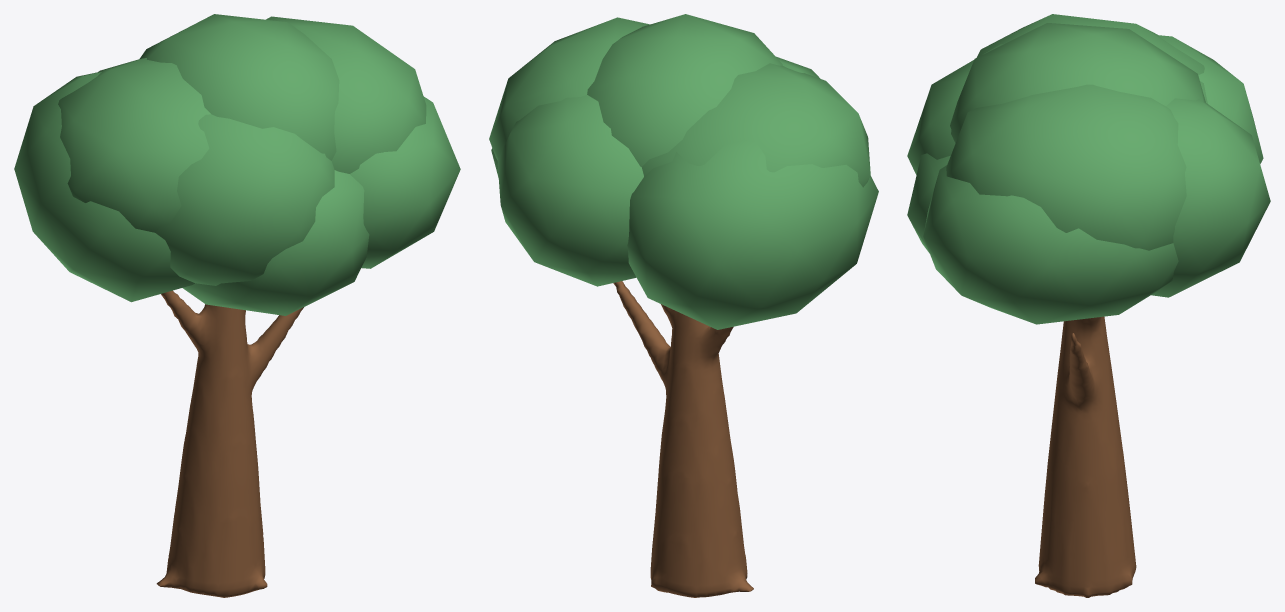
Rendered from NaturalTree_10_Asymmetric.fbx.
3 renders of one model, left to right at view 1: azimuth 30°, elevation 25°; view 2: azimuth 150°, elevation 25°; view 3: azimuth 270°, elevation 25°, orthographic.
Parts seen in each view (by area): view 1: Trunk.009, Foliage_03.009, Foliage_01.009, Foliage_00.009, Foliage_05.009, Foliage_02.009, Foliage_07.008, Foliage_06.009; view 2: Foliage_05.009, Trunk.009, Foliage_04.009, Foliage_00.009, Foliage_01.009, Foliage_02.009; view 3: Foliage_02.009, Foliage_06.009, Trunk.009, Foliage_00.009, Foliage_04.009, Foliage_03.009, Foliage_05.009, Foliage_01.009, Foliage_07.008.
Boxes of the visible parts, x1=… form: Trunk.009: x1=156, y1=290, x2=303, y2=597; Foliage_03.009: x1=155, y1=114, x2=334, y2=285; Foliage_01.009: x1=58, y1=58, x2=210, y2=232; Foliage_00.009: x1=139, y1=14, x2=339, y2=160; Foliage_05.009: x1=14, y1=72, x2=194, y2=302; Foliage_02.009: x1=266, y1=16, x2=426, y2=173; Foliage_07.008: x1=182, y1=170, x2=369, y2=315; Foliage_06.009: x1=350, y1=96, x2=460, y2=268; Foliage_05.009: x1=627, y1=139, x2=878, y2=329; Trunk.009: x1=613, y1=281, x2=753, y2=597; Foliage_04.009: x1=497, y1=95, x2=643, y2=286; Foliage_00.009: x1=587, y1=14, x2=782, y2=166; Foliage_01.009: x1=641, y1=63, x2=870, y2=187; Foliage_02.009: x1=489, y1=17, x2=649, y2=160; Foliage_02.009: x1=946, y1=84, x2=1186, y2=250; Foliage_06.009: x1=923, y1=165, x2=1178, y2=324; Trunk.009: x1=1035, y1=316, x2=1136, y2=597; Foliage_00.009: x1=950, y1=23, x2=1205, y2=142; Foliage_04.009: x1=1151, y1=98, x2=1270, y2=297; Foliage_03.009: x1=907, y1=43, x2=1004, y2=174; Foliage_05.009: x1=1157, y1=35, x2=1263, y2=163; Foliage_01.009: x1=977, y1=14, x2=1207, y2=103; Foliage_07.008: x1=907, y1=153, x2=950, y2=253.
Bounding box in the file's own units: 2.14 × 3 × 1.78.
